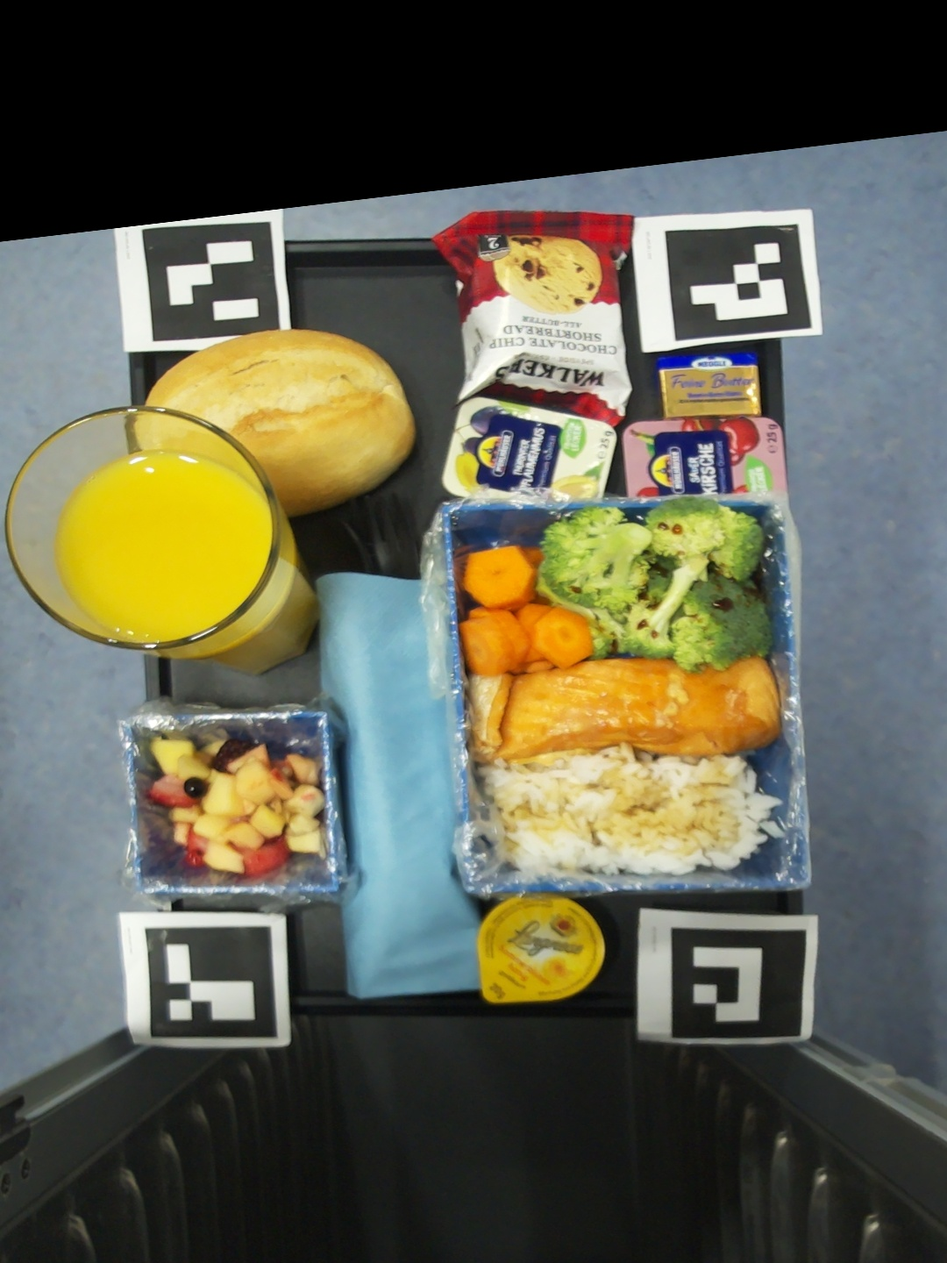bread_roll: (145, 328, 415, 517)
broccoli: (540, 497, 774, 672)
butter: (654, 351, 761, 418)
carrots: (458, 545, 593, 676)
cherry_jam: (622, 416, 787, 497)
cookie: (431, 210, 634, 425)
fish_salmon: (468, 657, 781, 763)
fruit_salad: (150, 734, 326, 877)
honey: (478, 895, 603, 1000)
orange_juice_bottle: (5, 407, 322, 675)
plum_jam: (441, 396, 616, 499)
rice: (476, 745, 785, 876)
